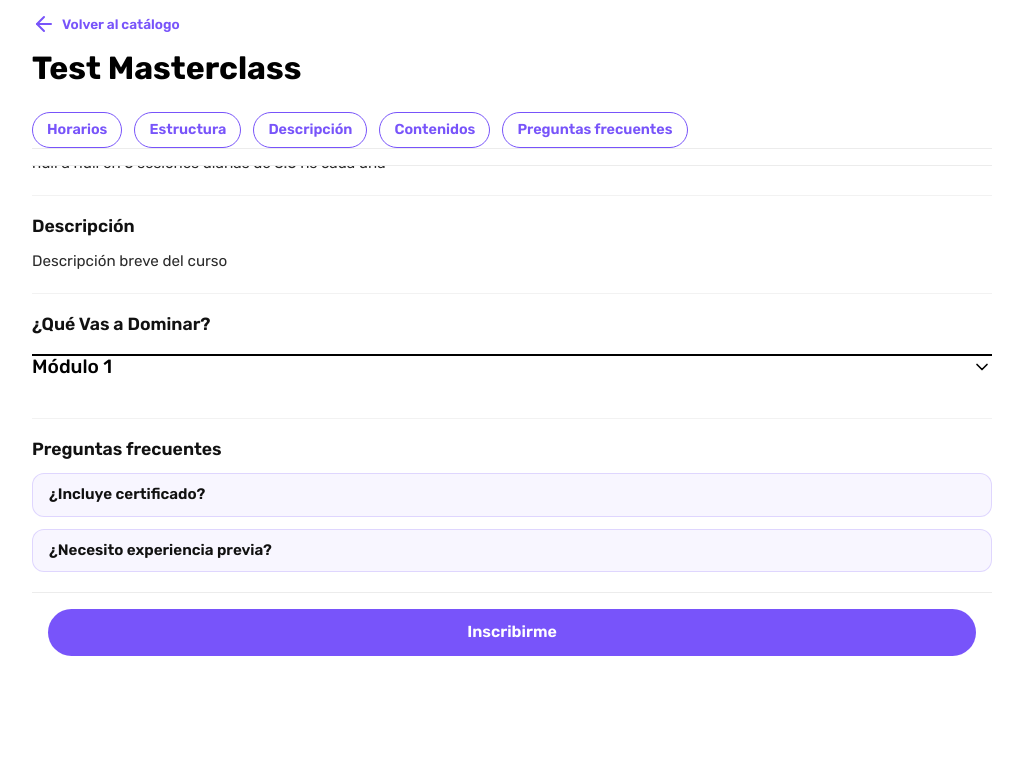
Test: CourseDetail route › renders FAQ entries inside an accordion and reveals answers on toggle
The image size is (1024, 768).
(page scrolled)
Expected: the heading "Preguntas frecuentes" is shown, [32,439,222,459]
Expected: the text "Sí." is not shown
Step 1. Click the button "¿Incluye certificado?" → {"x": 127, "y": 494}, box [33,474,991,516]
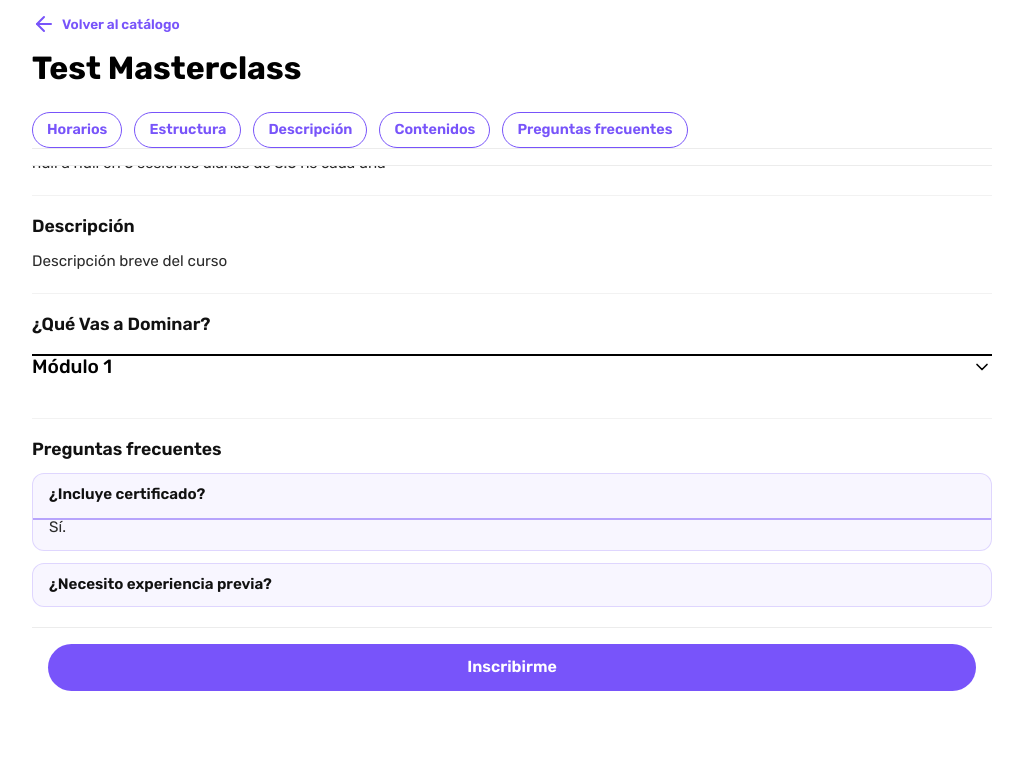
Expected: the text "Sí." is shown, [49,518,66,536]
